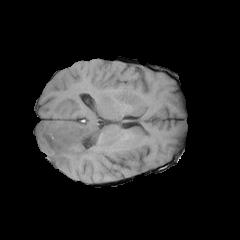glioma: (40, 123, 143, 169)
